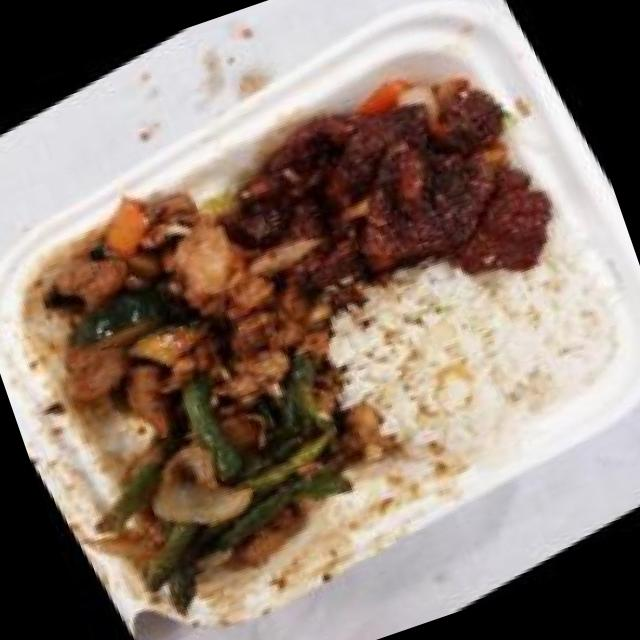Beijing Beef: (198, 6, 598, 392)
Kung Pao Chicken: (0, 130, 354, 488)
String Bean Chicken Breast: (51, 319, 417, 632)
White Steamed Rice: (308, 207, 640, 515)
